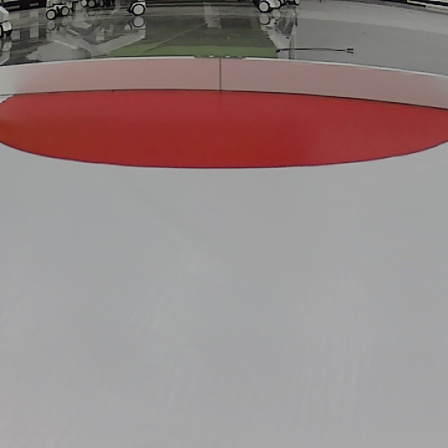red_base: (5, 86, 448, 169)
